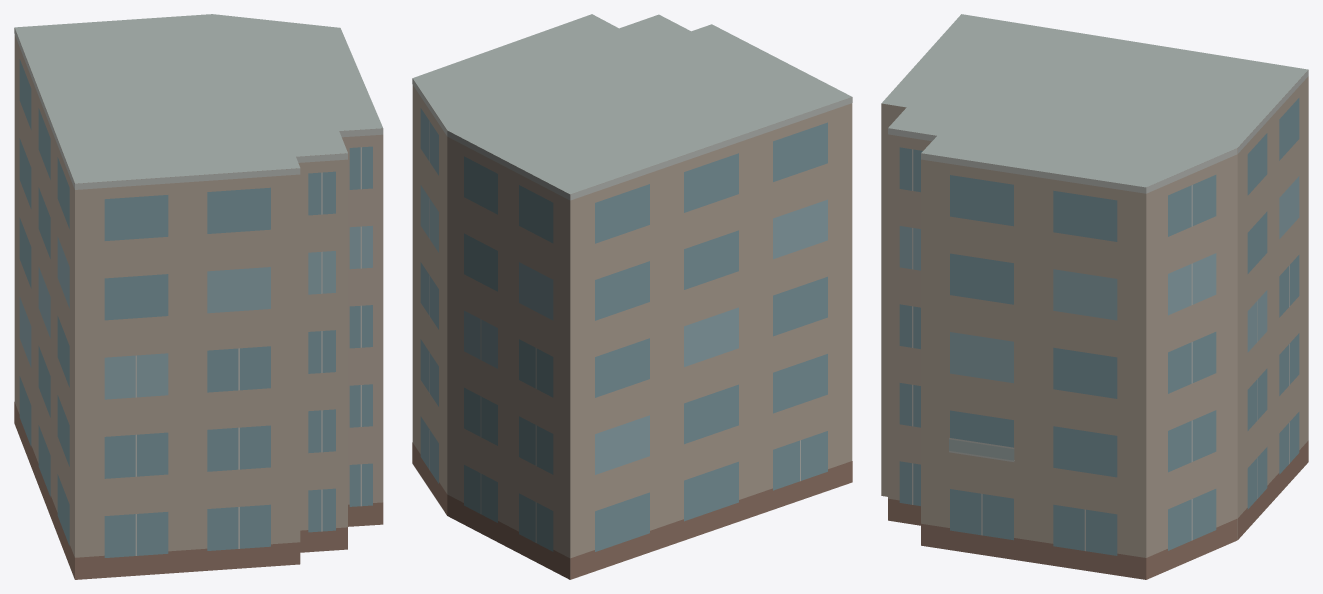
Rendered from survey-upis-32538470.glb.
3 views of the same model, side by side, from view 1: azimuth 30°, elevation 25°; view 2: azimuth 150°, elevation 25°; view 3: azimuth 270°, elevation 25° (orthographic). The views are drawn at different scales.
Parts seen in each view (by area): view 1: survey-upis-32538470.tmp; view 2: survey-upis-32538470.tmp; view 3: survey-upis-32538470.tmp.
Part boxes in pixels (x1=…): survey-upis-32538470.tmp: x1=14, y1=14, x2=383, y2=579; survey-upis-32538470.tmp: x1=412, y1=14, x2=852, y2=579; survey-upis-32538470.tmp: x1=881, y1=14, x2=1308, y2=579.
Bounding box in the file's own units: 14.42 × 15.2 × 15.01.
